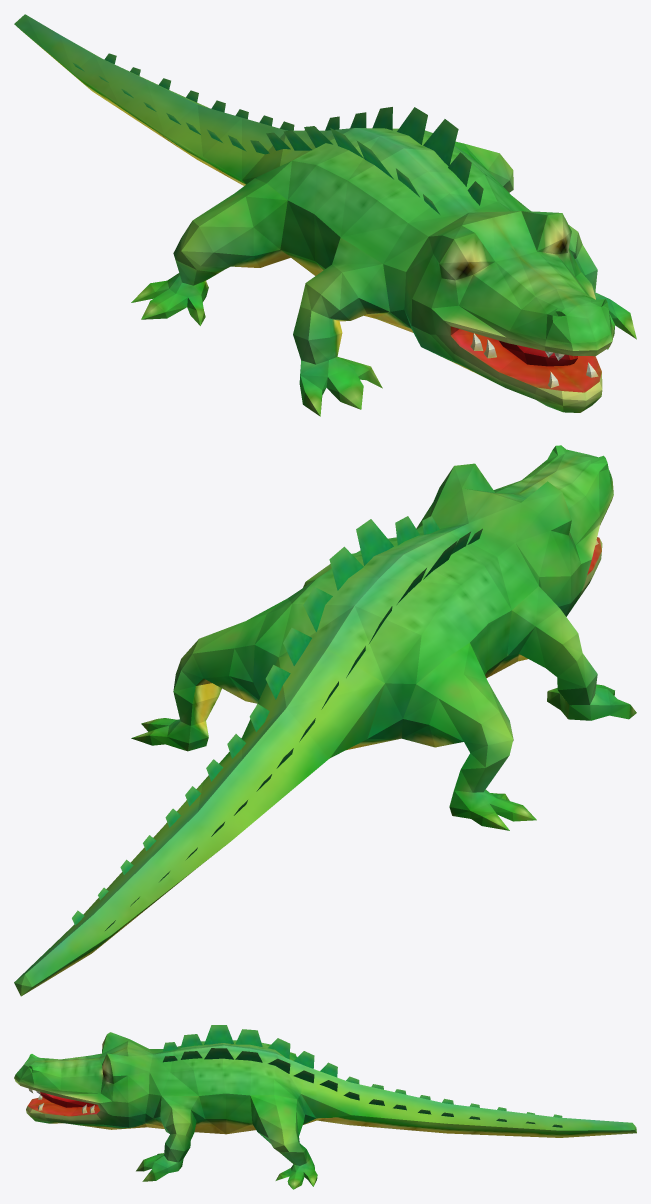
Rendered from scocodrilo01.glb.
3 views of the same model, one above another, from view 1: azimuth 30°, elevation 25°; view 2: azimuth 150°, elevation 25°; view 3: azimuth 270°, elevation 25° (orthographic). The views are drawn at different scales.
Parts seen in each view (by area): view 1: GB52N3B5MIARGJS7YW16B50EK; view 2: GB52N3B5MIARGJS7YW16B50EK; view 3: GB52N3B5MIARGJS7YW16B50EK.
Part boxes in pixels (<box>): GB52N3B5MIARGJS7YW16B50EK: <box>14,14,636,416</box>; GB52N3B5MIARGJS7YW16B50EK: <box>14,445,636,996</box>; GB52N3B5MIARGJS7YW16B50EK: <box>14,1025,636,1189</box>.
Bounding box in the file's own units: 1.53 × 0.7092 × 3.86.
1 material, 1 textured.
